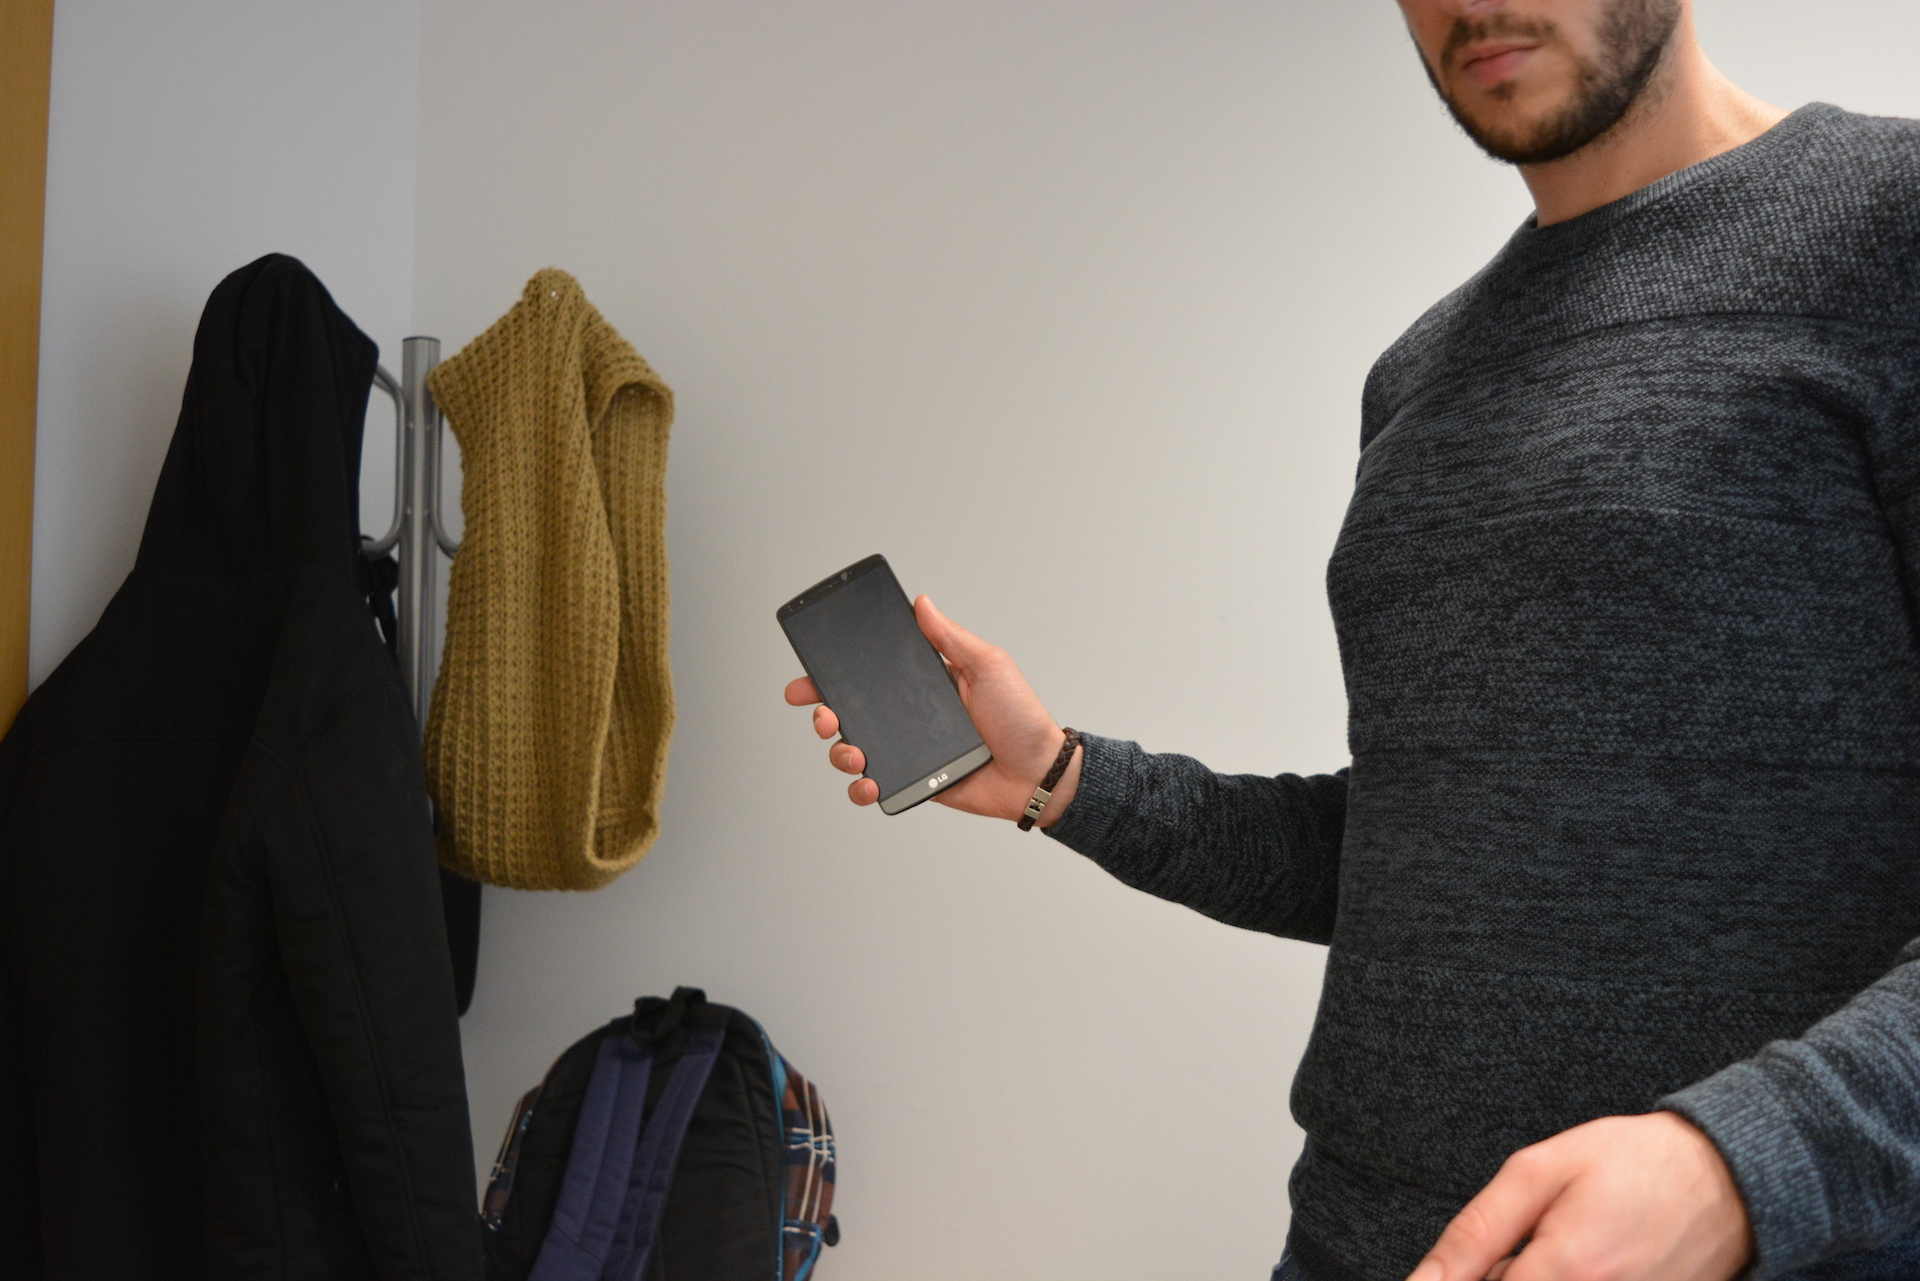smartphone: (775, 552, 995, 818)
